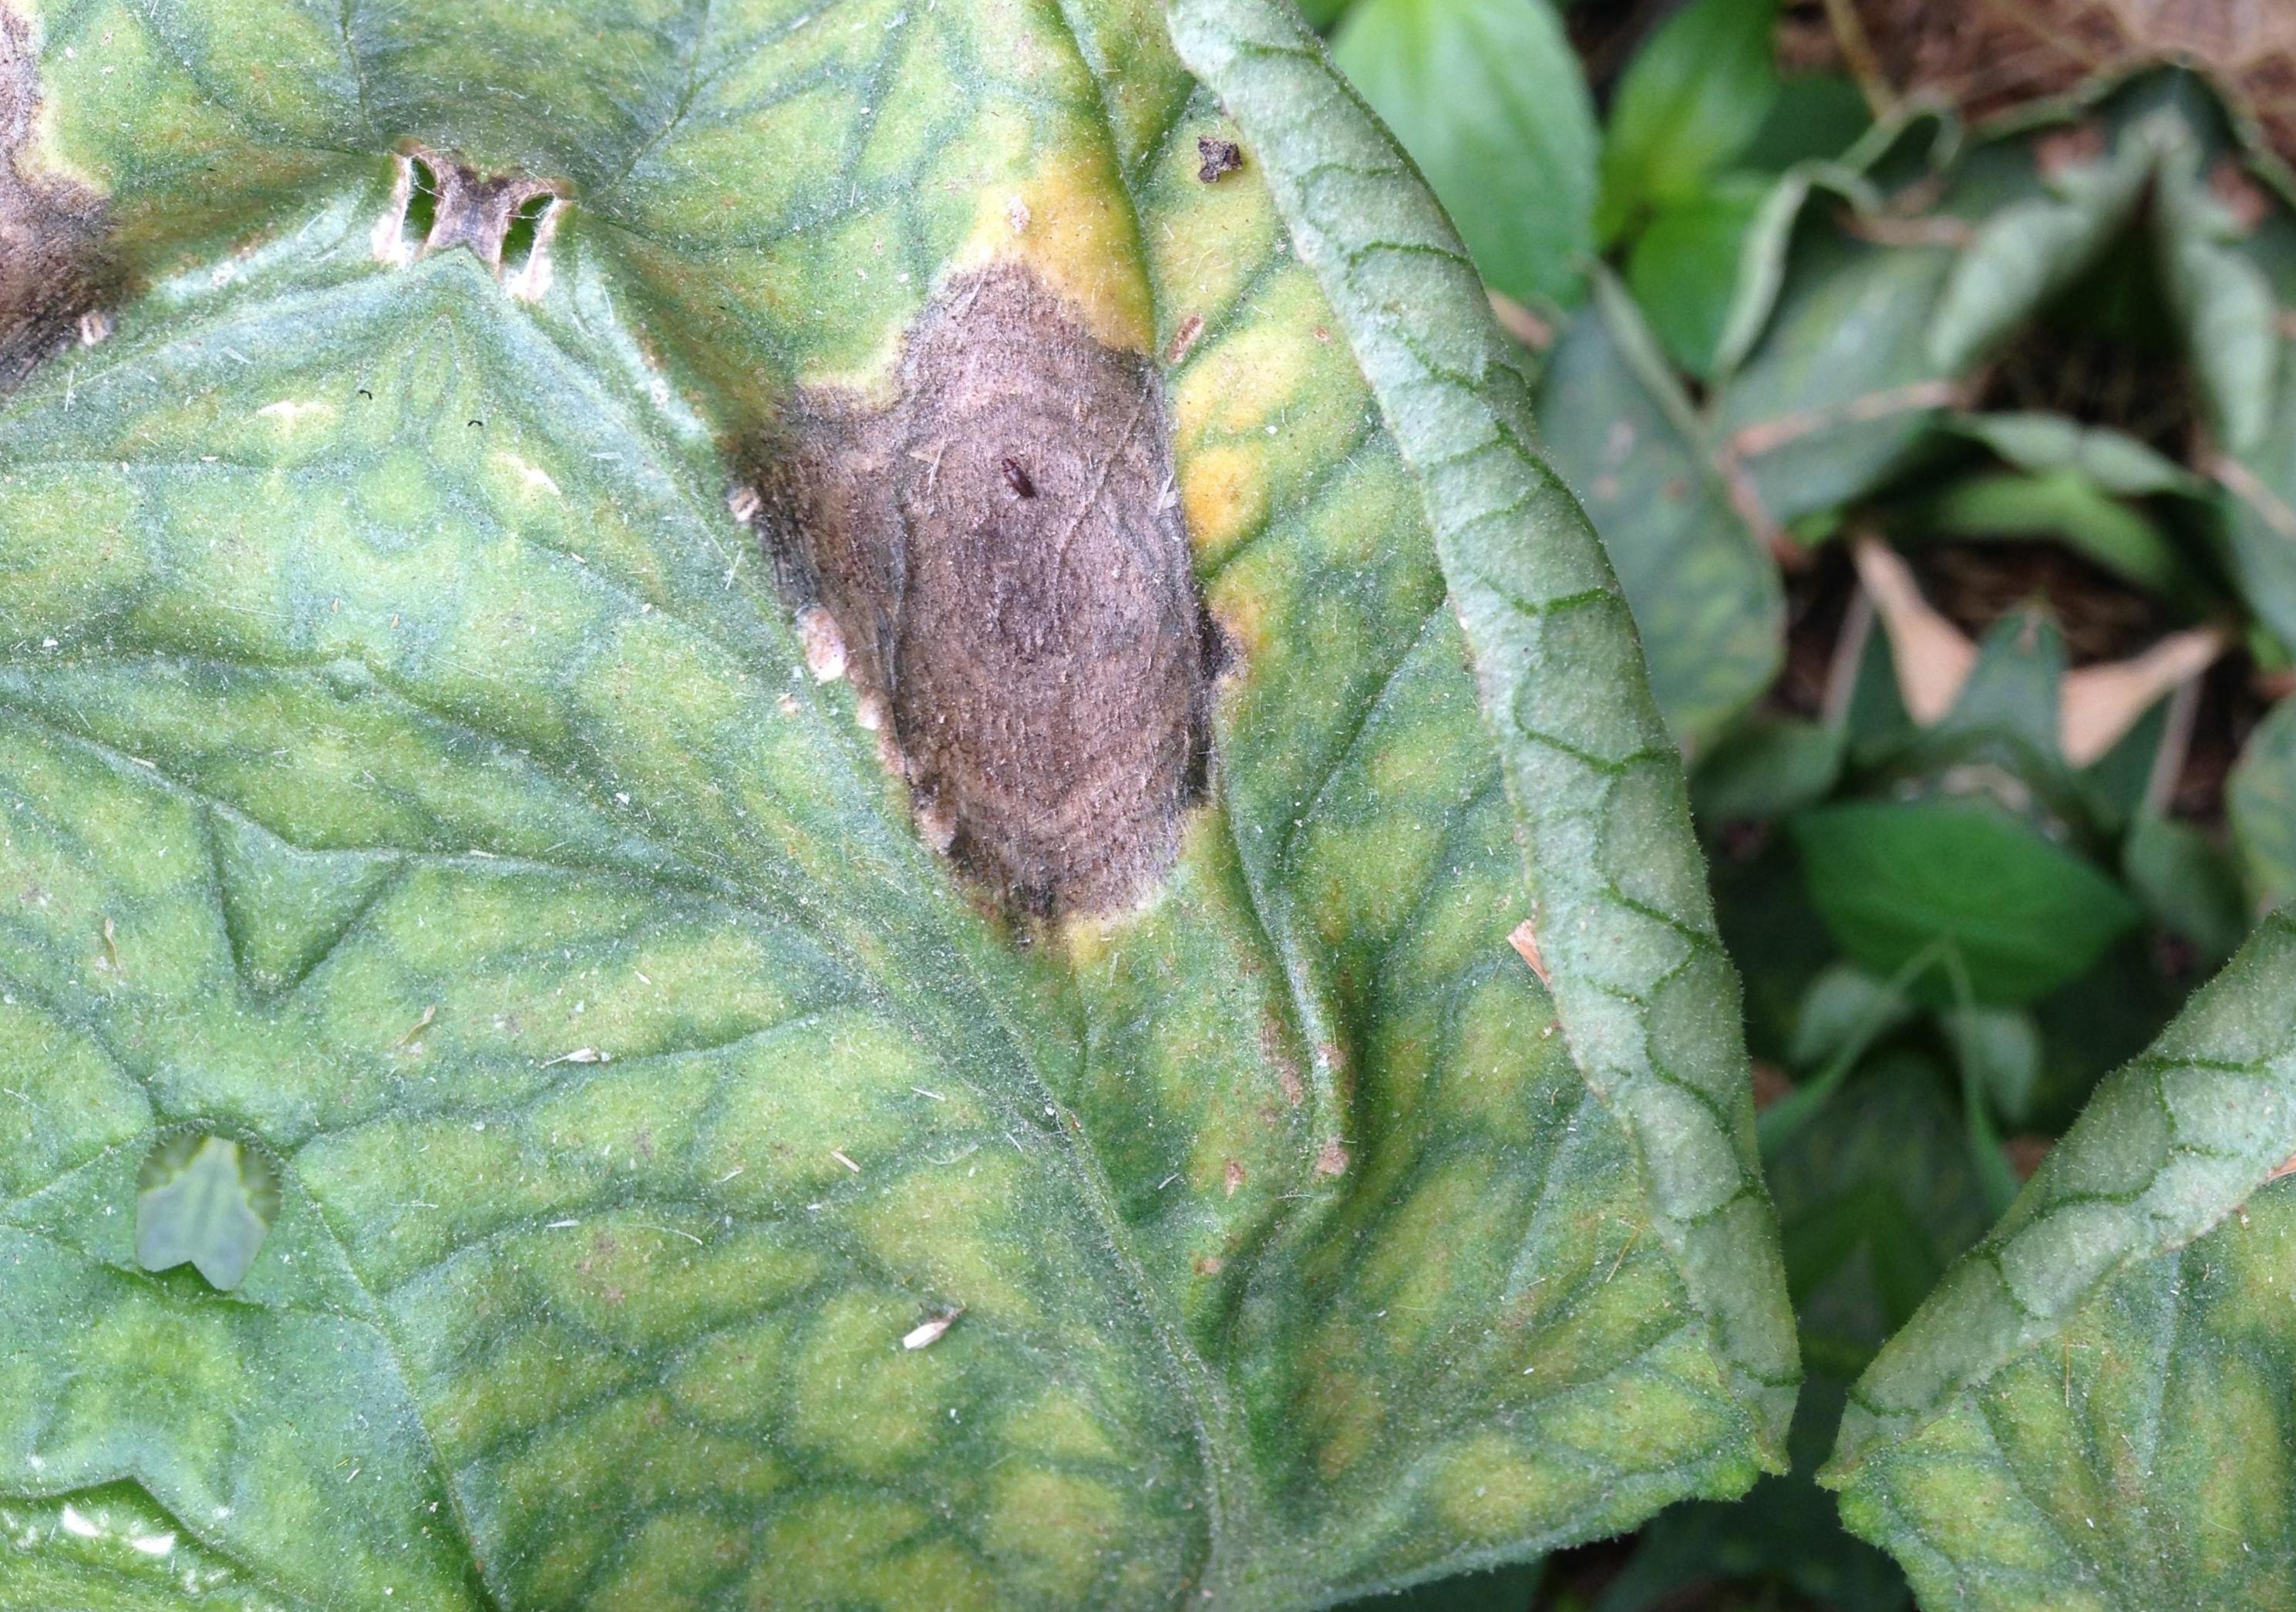Tomato Early blight leaf: (389, 49, 1399, 1204)
